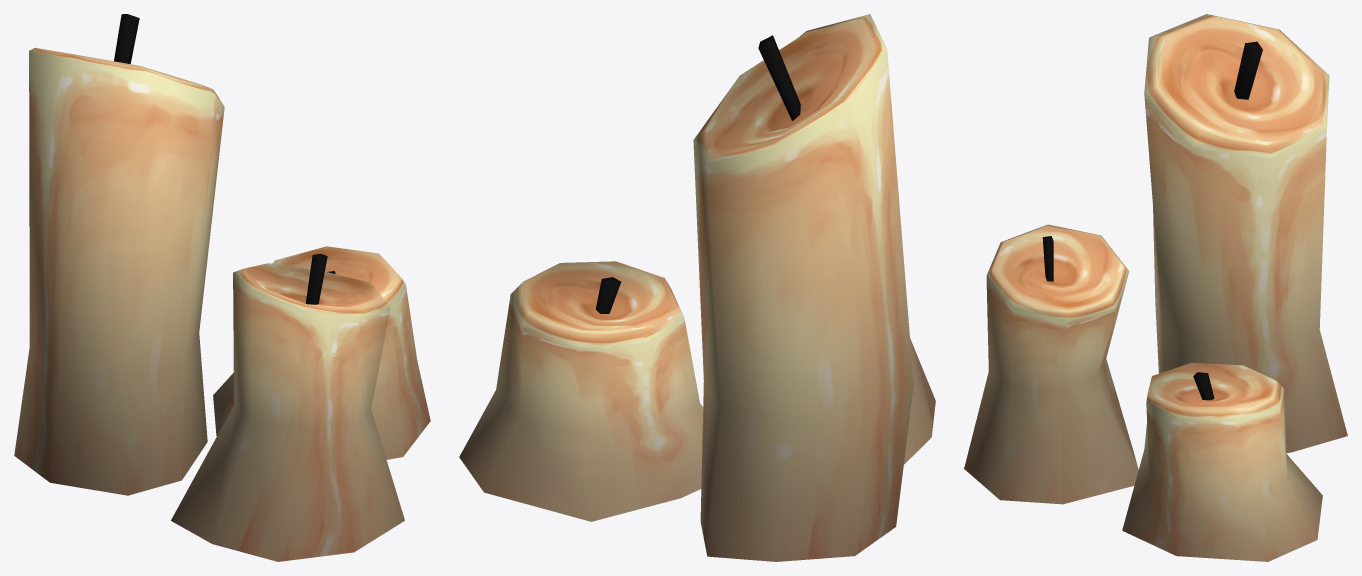
Rendered from SM_PROP_candle_07.fbx.
The picture shows the model from 3 angles, left to right: view 1: azimuth 30°, elevation 25°; view 2: azimuth 150°, elevation 25°; view 3: azimuth 270°, elevation 25°; orthographic projection. The views are drawn at different scales.
Visible parts, largest first — view 1: SM_PROP_candle_07; view 2: SM_PROP_candle_07; view 3: SM_PROP_candle_07.
Part boxes in pixels (x1=…): SM_PROP_candle_07: x1=14, y1=14, x2=430, y2=561; SM_PROP_candle_07: x1=459, y1=14, x2=935, y2=561; SM_PROP_candle_07: x1=964, y1=14, x2=1347, y2=561.
Bounding box in the file's own units: 23.53 × 26.55 × 23.18.
